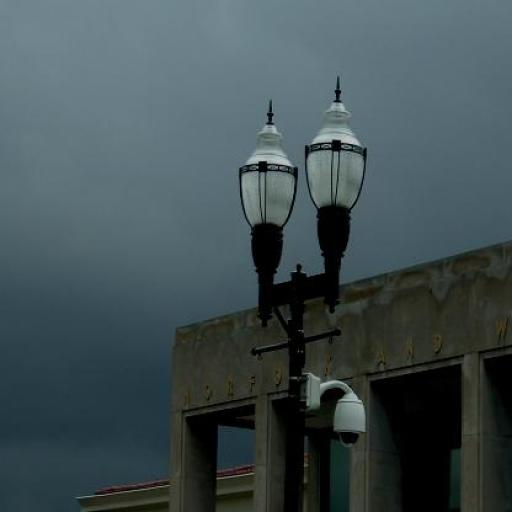street light: (238, 77, 367, 512)
